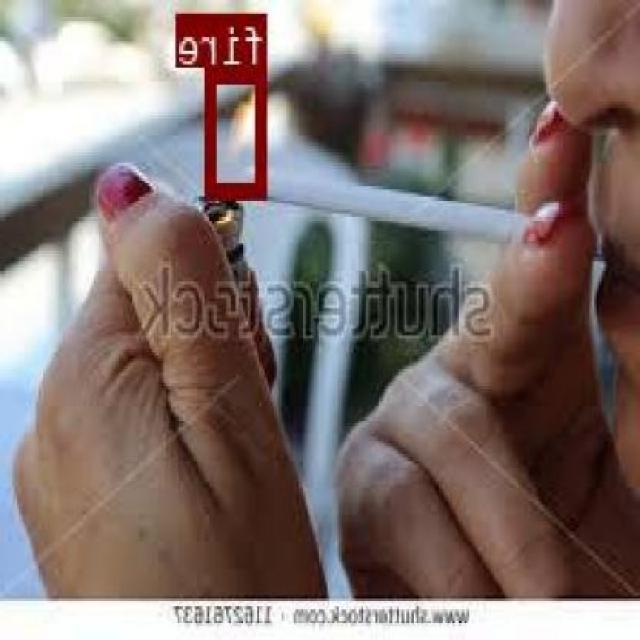fire: (208, 68, 268, 196)
